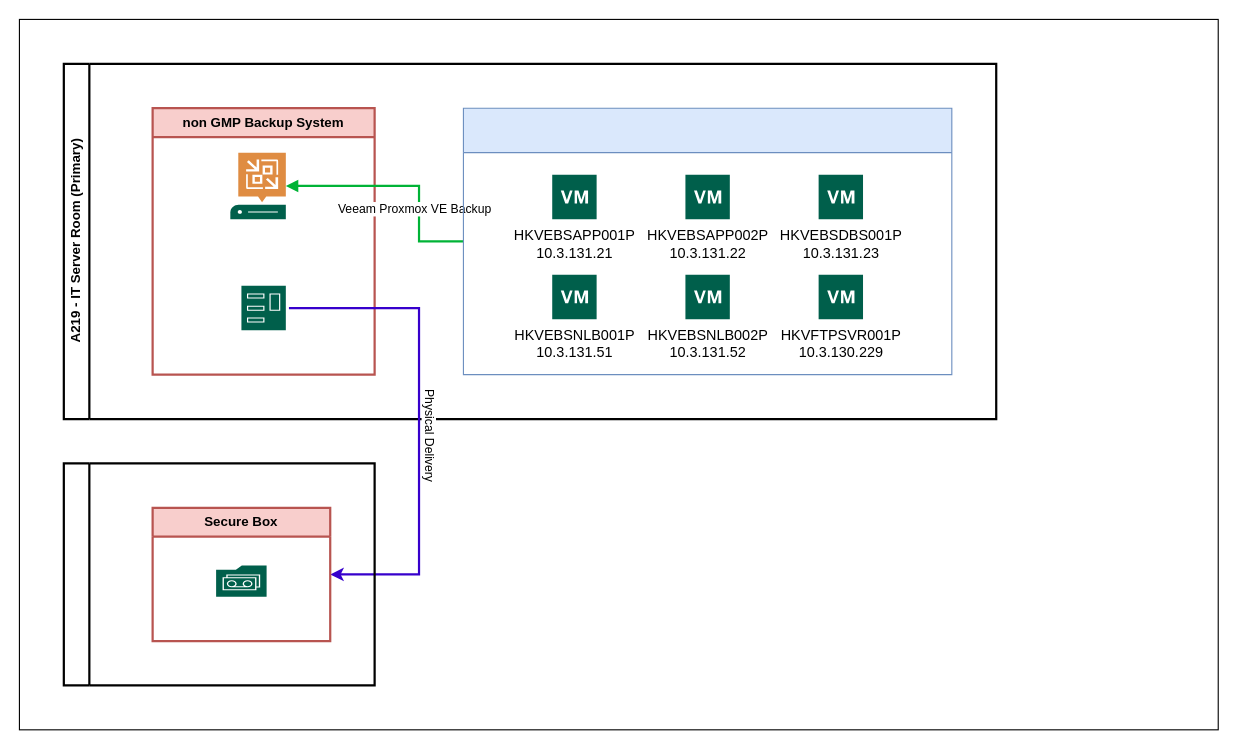
This 1238x749 diagram has some shape labels left out. The shapes that lost their labels are listed below. From the top down, each one's box as (x1, y1, x2, y2) in pixels, then its label:
(230, 152, 285, 219): non GMP Data Backup Server HKPBACKUP003P IP:10.3.130.12
(462, 107, 952, 375): non GMP Proxmox PVE
(241, 285, 285, 330): non GMP Tape Library 10.3.128.17
(62, 462, 375, 686): B227
